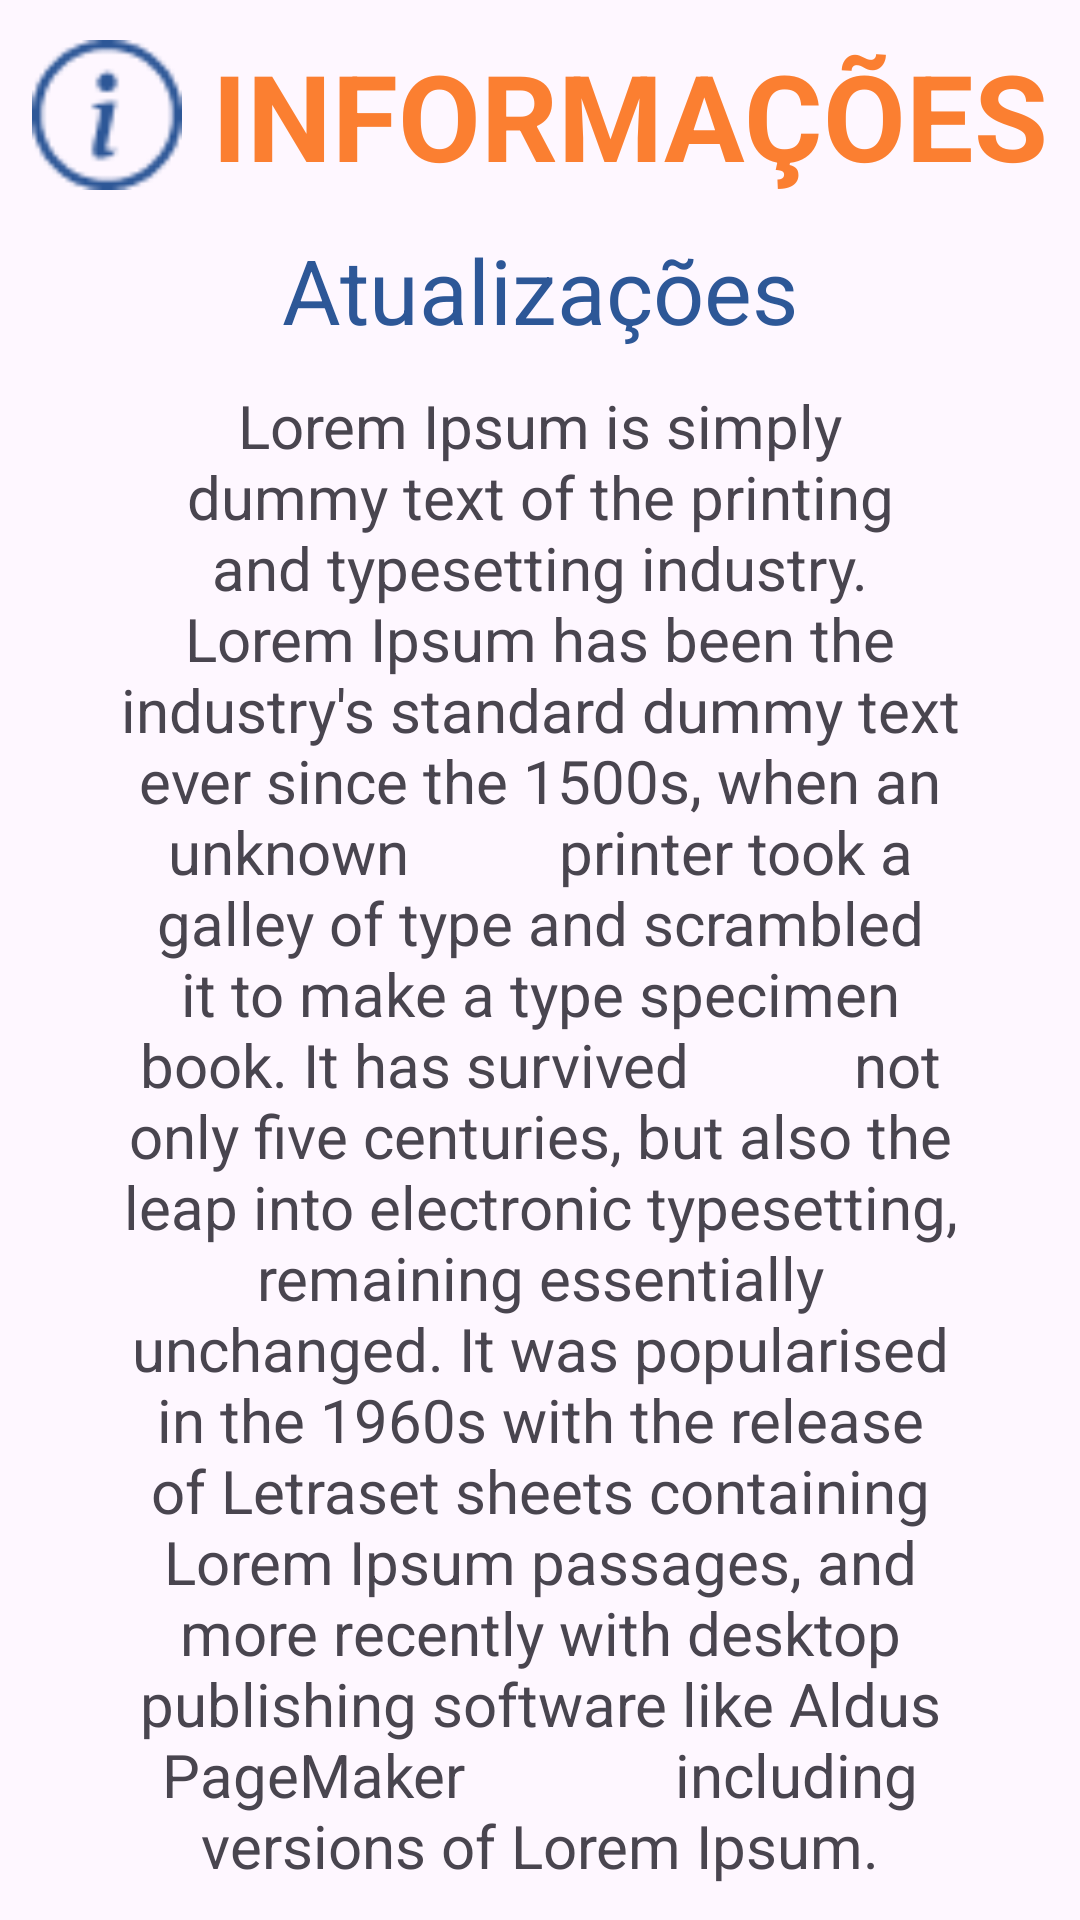

Icons on this 1080x1920 Android screen, each with its box as [x1, y1, x2, y2]:
infocircle: [32, 40, 182, 190]
